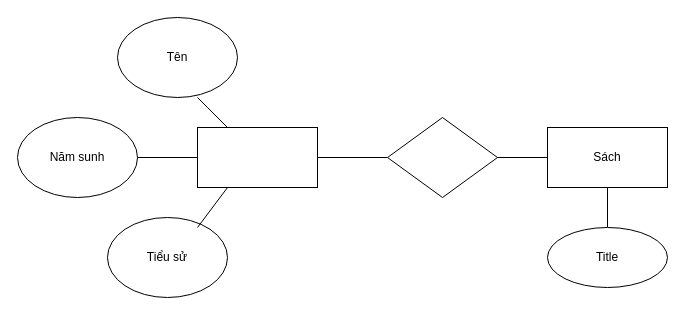
Image size: 685x315. Some labels were removed from this diagram. Here are the shapes that lost their labels. From the top down, the centre of each, then its label:
At (x=257, y=157): "Tác giả".
At (x=442, y=157): "Viết".
